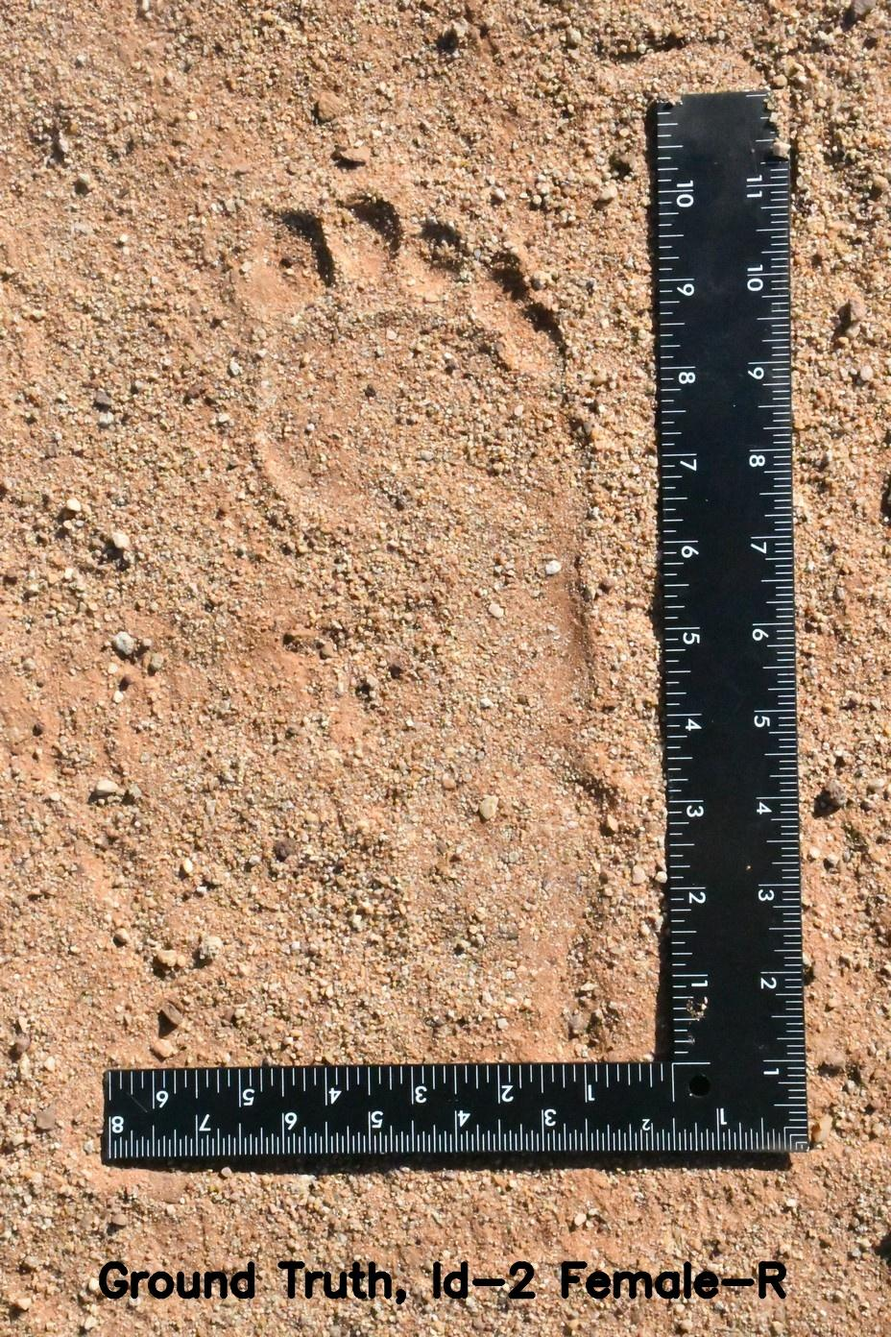human_footprint: (218, 158, 653, 1037)
